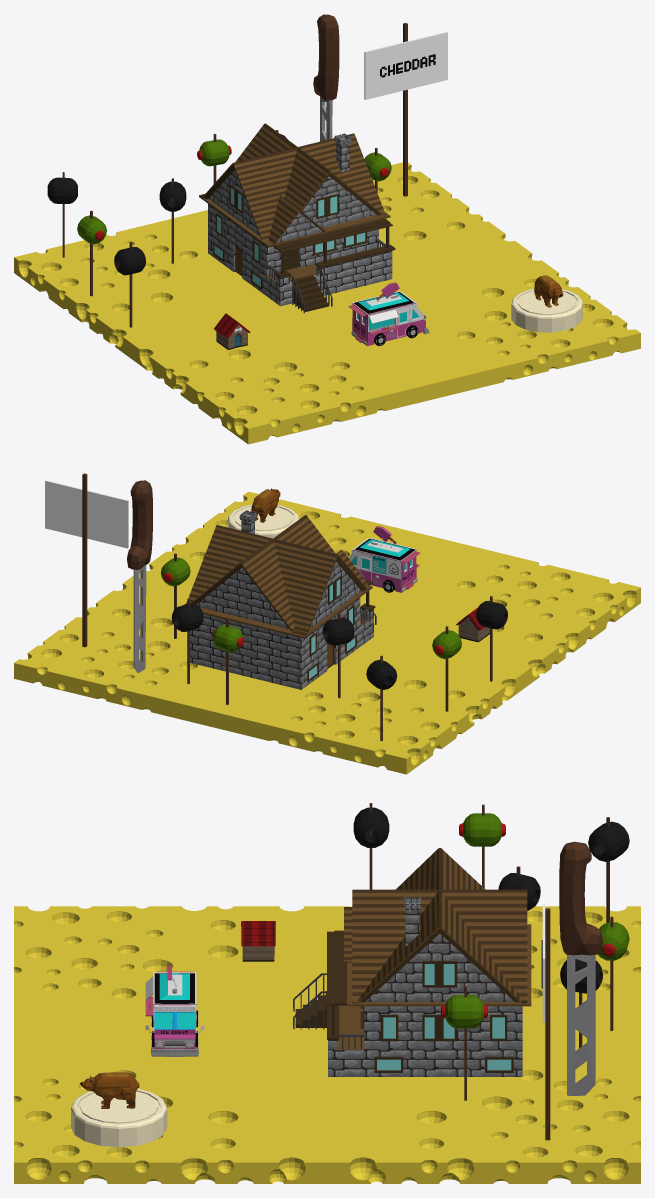
The picture shows the model from 3 angles, top to bottom: view 1: azimuth 30°, elevation 25°; view 2: azimuth 150°, elevation 25°; view 3: azimuth 270°, elevation 25°; orthographic projection. The views are drawn at different scales.
Visible parts, largest first — view 1: Cube.022, Cube.586, Cube.023, VEHICLES_ICE_CREAM_TRUCK, Cylinder.016, Cube.024, Sphere.017, Sphere.016, OBJRANDOM_DOGHOUSE, Sphere.020, Sphere.018, Sphere.022 (+2 smaller); view 2: Cube.022, Cube.586, Cube.023, Cube.024, VEHICLES_ICE_CREAM_TRUCK, Cylinder.016, Sphere.017, Sphere.020, Sphere.021, Sphere.016, Sphere.018, Sphere.022 (+3 smaller); view 3: Cube.022, Cube.586, Cube.024, Cylinder.016, VEHICLES_ICE_CREAM_TRUCK, Cube.023, Sphere.019, Sphere.016, ANIMAL_OSO, Sphere.018, OBJRANDOM_DOGHOUSE, Sphere.017 (+3 smaller).
Part boxes in pixels (x1,y1,x2,y2): Cube.022: [14, 162, 640, 444]; Cube.586: [199, 123, 395, 313]; Cube.023: [364, 23, 447, 196]; VEHICLES_ICE_CREAM_TRUCK: [348, 282, 429, 346]; Cylinder.016: [511, 288, 582, 332]; Cube.024: [313, 14, 339, 141]; Sphere.017: [114, 242, 145, 327]; Sphere.016: [47, 172, 77, 257]; OBJRANDOM_DOGHOUSE: [214, 313, 250, 349]; Sphere.020: [159, 178, 186, 263]; Sphere.018: [77, 210, 106, 296]; Sphere.022: [197, 134, 231, 183]; Cube.022: [14, 491, 640, 774]; Cube.586: [184, 510, 376, 689]; Cube.023: [45, 473, 128, 647]; Cube.024: [127, 480, 152, 672]; VEHICLES_ICE_CREAM_TRUCK: [348, 526, 420, 592]; Cylinder.016: [228, 504, 298, 538]; Sphere.017: [476, 596, 507, 681]; Sphere.020: [322, 612, 354, 698]; Sphere.021: [171, 598, 203, 683]; Sphere.016: [366, 655, 397, 741]; Sphere.018: [432, 626, 461, 711]; Sphere.022: [212, 619, 244, 704]; Cube.022: [14, 906, 640, 1183]; Cube.586: [293, 848, 531, 1076]; Cube.024: [559, 841, 602, 1095]; Cylinder.016: [71, 1088, 167, 1147]; VEHICLES_ICE_CREAM_TRUCK: [145, 965, 204, 1056]; Cube.023: [541, 904, 550, 1140]; Sphere.019: [441, 986, 487, 1100]; Sphere.016: [588, 817, 629, 922]; ANIMAL_OSO: [80, 1072, 139, 1108]; Sphere.018: [459, 804, 505, 888]; OBJRANDOM_DOGHOUSE: [241, 921, 275, 961]; Sphere.017: [353, 803, 389, 889].
Size of the model in its own units: 3917 by 2007 by 4000.
48 materials, 4 textured.
